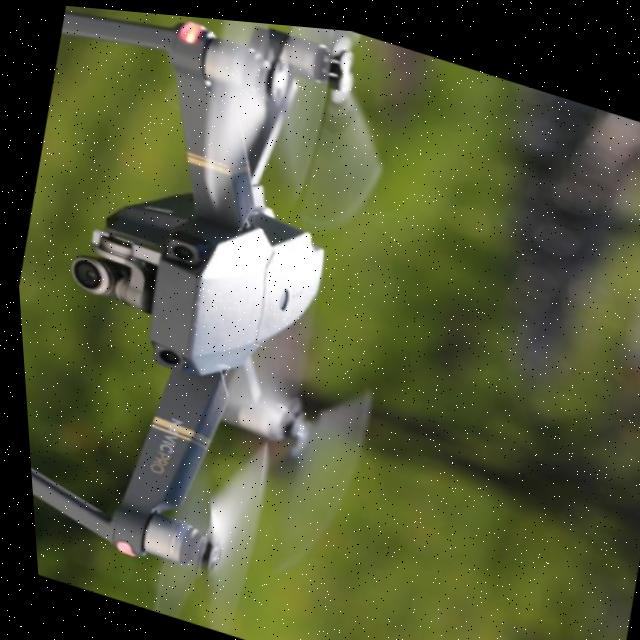drones: (0, 0, 483, 640)
